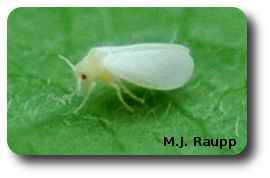Tobacco Whitefly: (48, 28, 206, 108)
